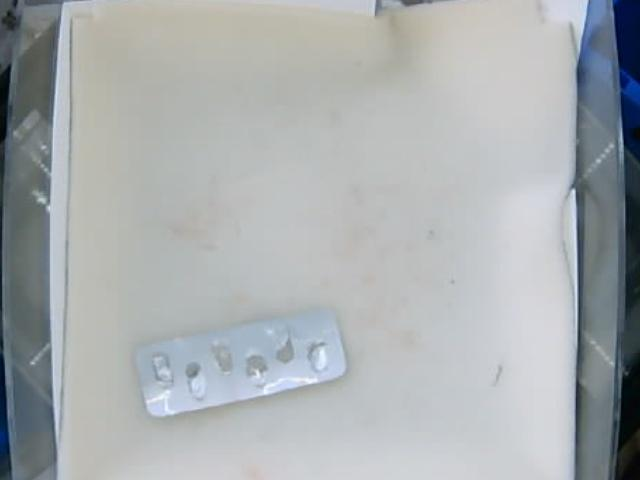Medicine: (129, 308, 347, 410)
